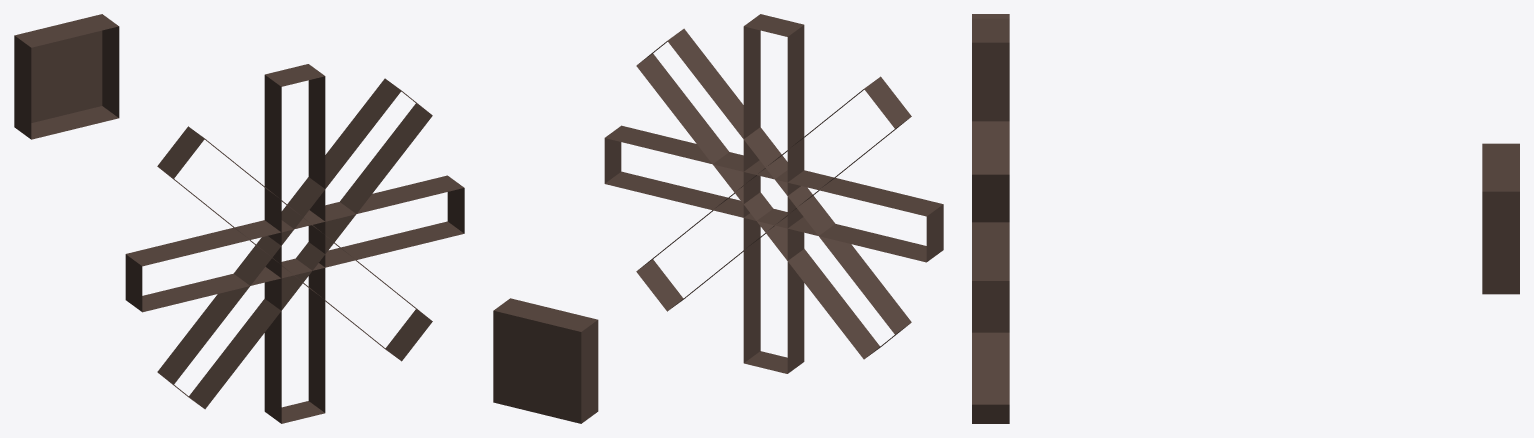
Rendered from large_motor_rotor.obj.
3 views of the same model, side by side, from view 1: azimuth 30°, elevation 25°; view 2: azimuth 150°, elevation 25°; view 3: azimuth 270°, elevation 25° (orthographic). The views are drawn at different scales.
Visible parts, largest first — view 1: cube; view 2: cube; view 3: cube.
Boxes of the visible parts, x1,y1,x2,y2 form: cube: [14, 14, 464, 423]; cube: [493, 14, 943, 423]; cube: [972, 14, 1519, 423].
Bounding box in the file's own units: 1.38 × 1.38 × 1.81.
